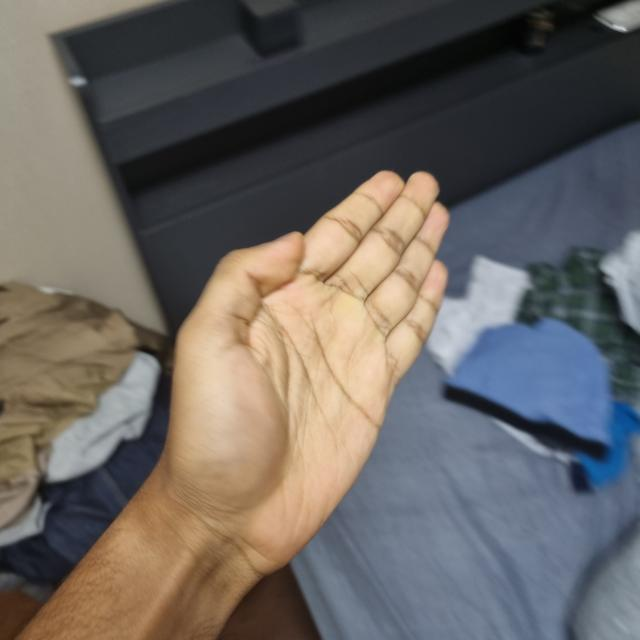Paper: (163, 173, 445, 560)
